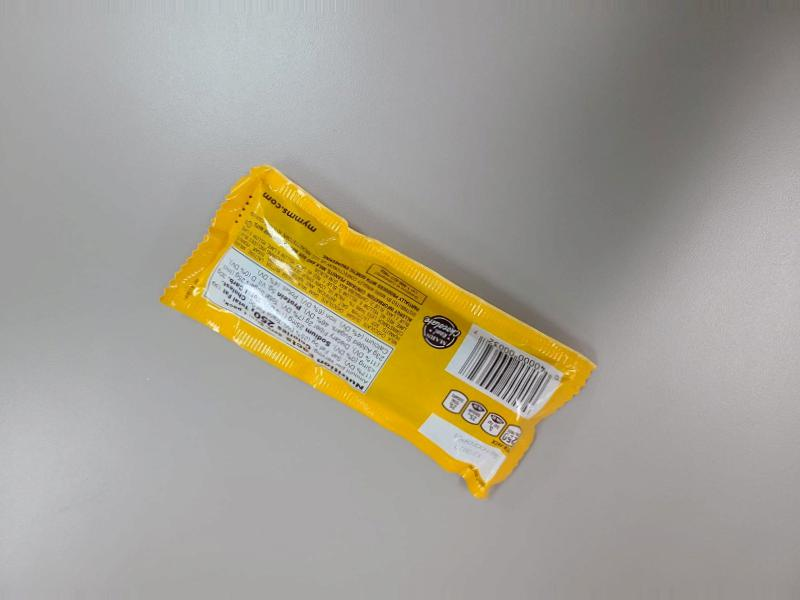m&m: (211, 208, 586, 523)
